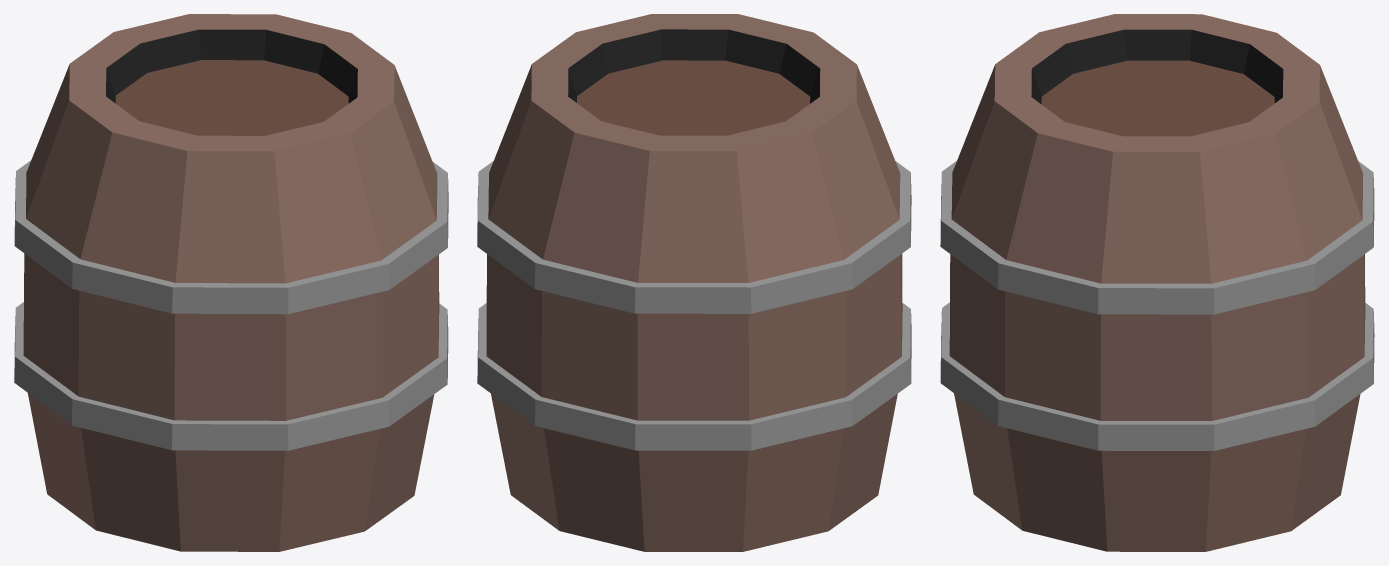
The model's file is prop_036.fbx.
3 renders of one model, left to right at view 1: azimuth 30°, elevation 25°; view 2: azimuth 150°, elevation 25°; view 3: azimuth 270°, elevation 25°, orthographic.
Visible parts, largest first — view 1: prop.036; view 2: prop.036; view 3: prop.036.
Boxes of the visible parts, x1,y1,x2,y2 form: prop.036: (14,14,448,551); prop.036: (477,14,911,551); prop.036: (940,14,1374,551).
Bounding box in the file's own units: 172 × 171 × 172.
Materials: 1 (1 with a texture image).
